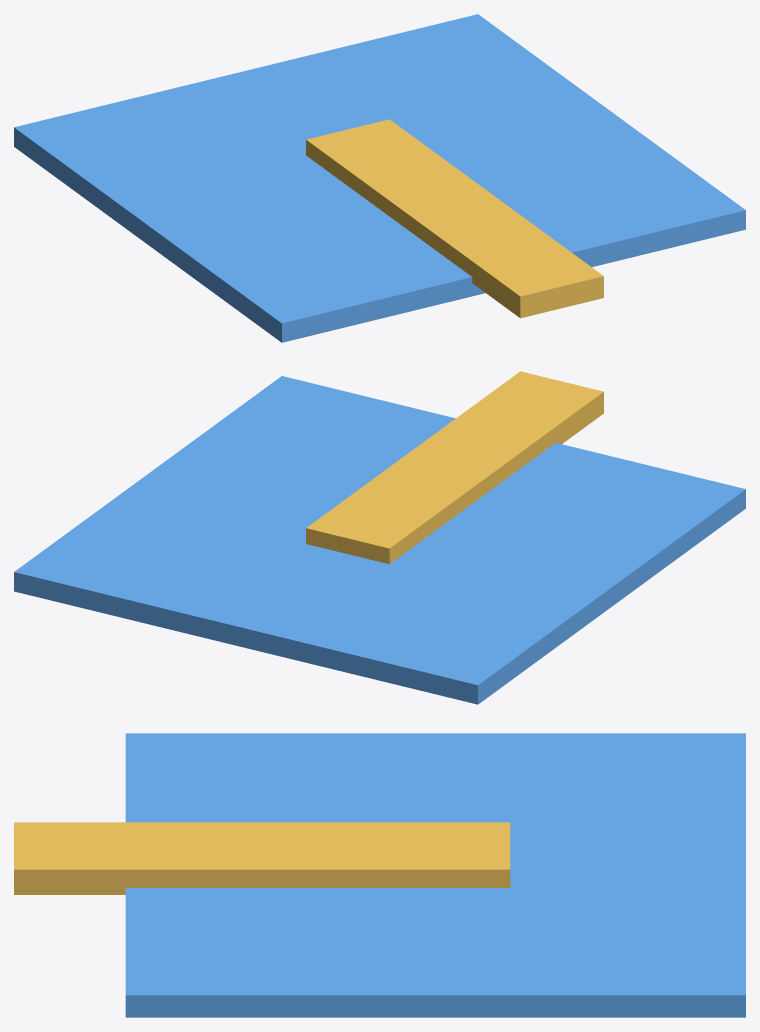
Rendered from marker.patrol_node.glb.
3 renders of one model, top to bottom at view 1: azimuth 30°, elevation 25°; view 2: azimuth 150°, elevation 25°; view 3: azimuth 270°, elevation 25°, orthographic. The views are drawn at different scales.
Parts seen in each view (by area): view 1: marker_disc, facing_tick; view 2: marker_disc, facing_tick; view 3: marker_disc, facing_tick.
Boxes of the visible parts, x1,y1,x2,y2 form: marker_disc: (14, 14, 745, 342); facing_tick: (306, 119, 603, 318); marker_disc: (14, 376, 745, 704); facing_tick: (306, 371, 603, 564); marker_disc: (125, 733, 745, 1017); facing_tick: (14, 822, 510, 894).
Bounding box in the file's own units: 1 × 0.0725 × 1.18.
